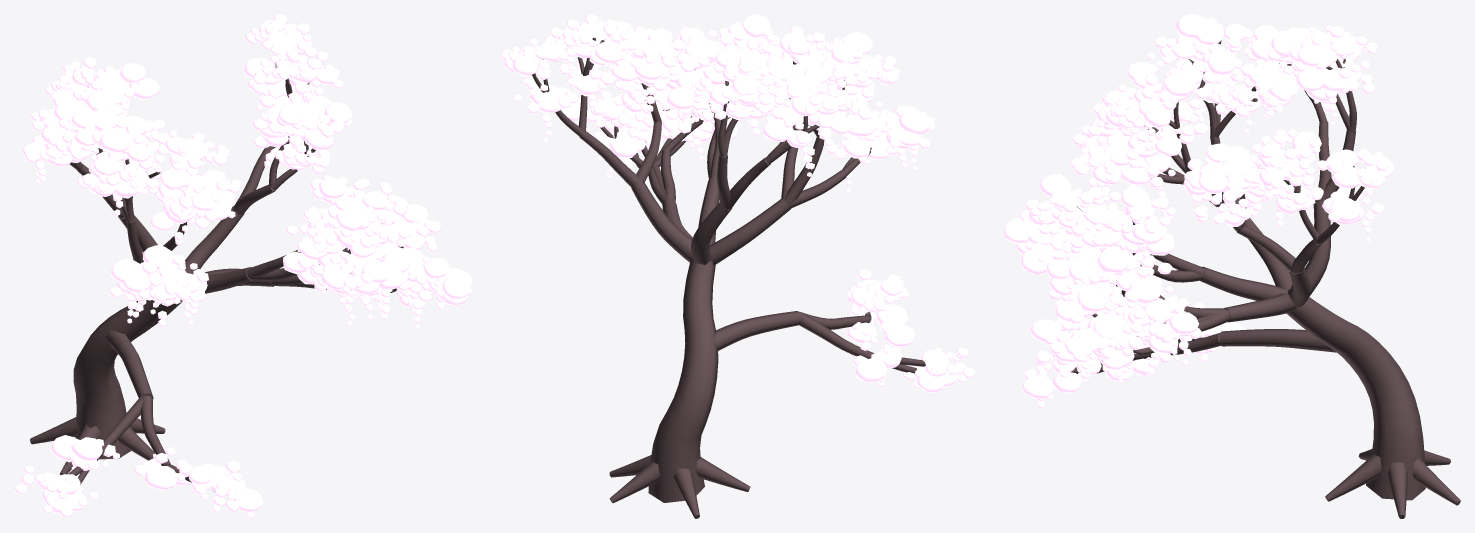
The model's file is cherry_tree.glb.
3 views of the same model, side by side, from view 1: azimuth 30°, elevation 25°; view 2: azimuth 150°, elevation 25°; view 3: azimuth 270°, elevation 25° (orthographic). The views are drawn at different scales.
Parts seen in each view (by area): view 1: Blossoms, Trunk; view 2: Blossoms, Trunk; view 3: Blossoms, Trunk.
Part boxes in pixels (x1,y1,x2,y2): Blossoms: (14,14,472,518); Trunk: (30,63,403,491); Blossoms: (501,14,974,392); Trunk: (532,37,925,518); Blossoms: (1003,14,1394,408); Trunk: (1071,40,1460,518).
Size of the model in its own units: 9.16 by 8.94 by 8.37.
